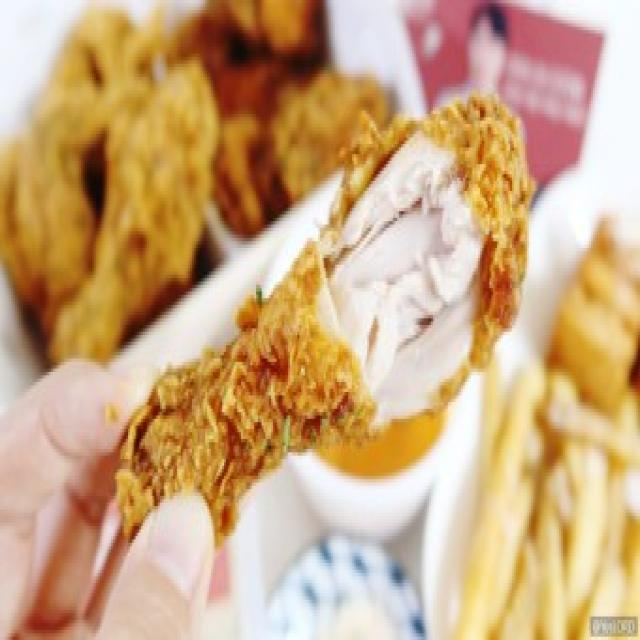Frango: (106, 78, 540, 568)
